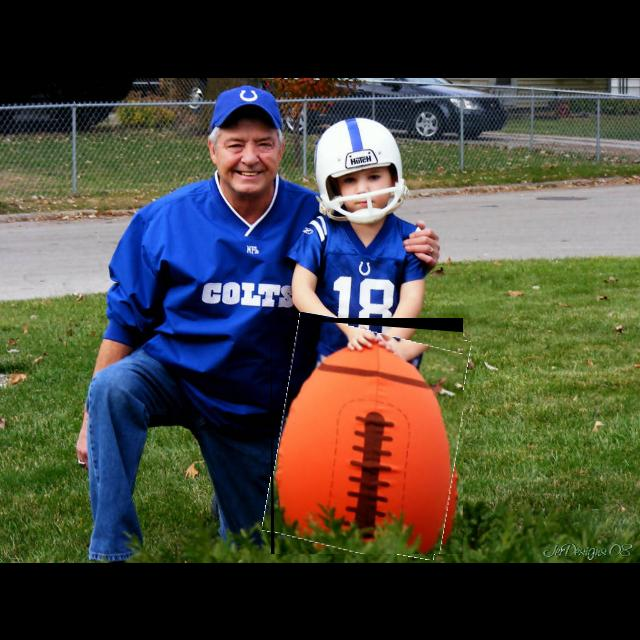Football: (271, 318, 463, 554)
